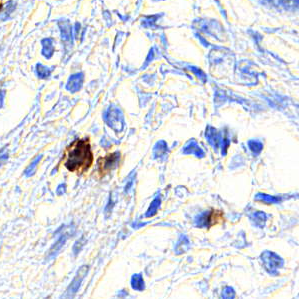Lymphocyte: (63, 137, 94, 172)
